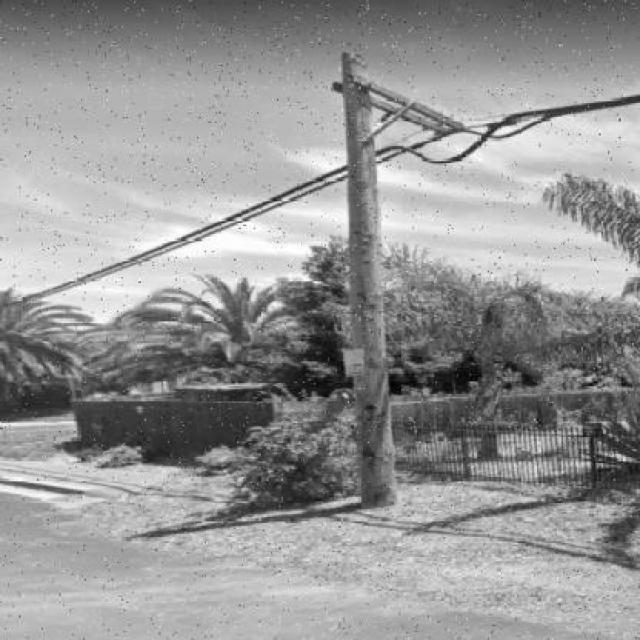pole: (262, 36, 498, 539)
